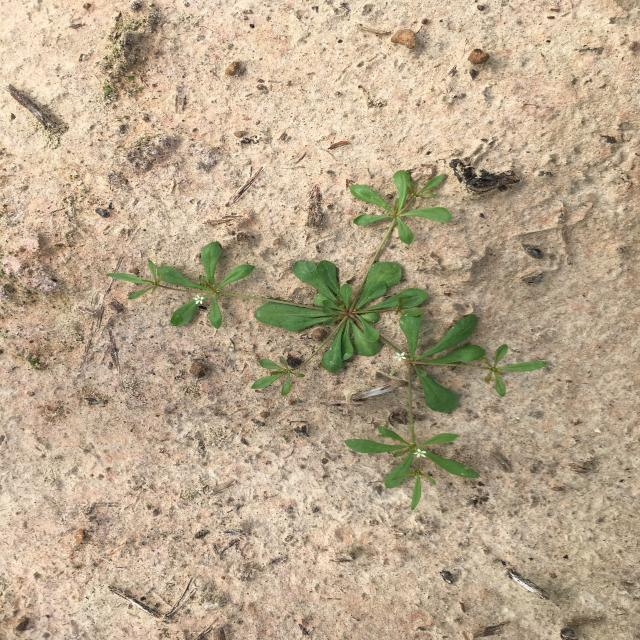Carpetweed: (106, 169, 548, 511)
